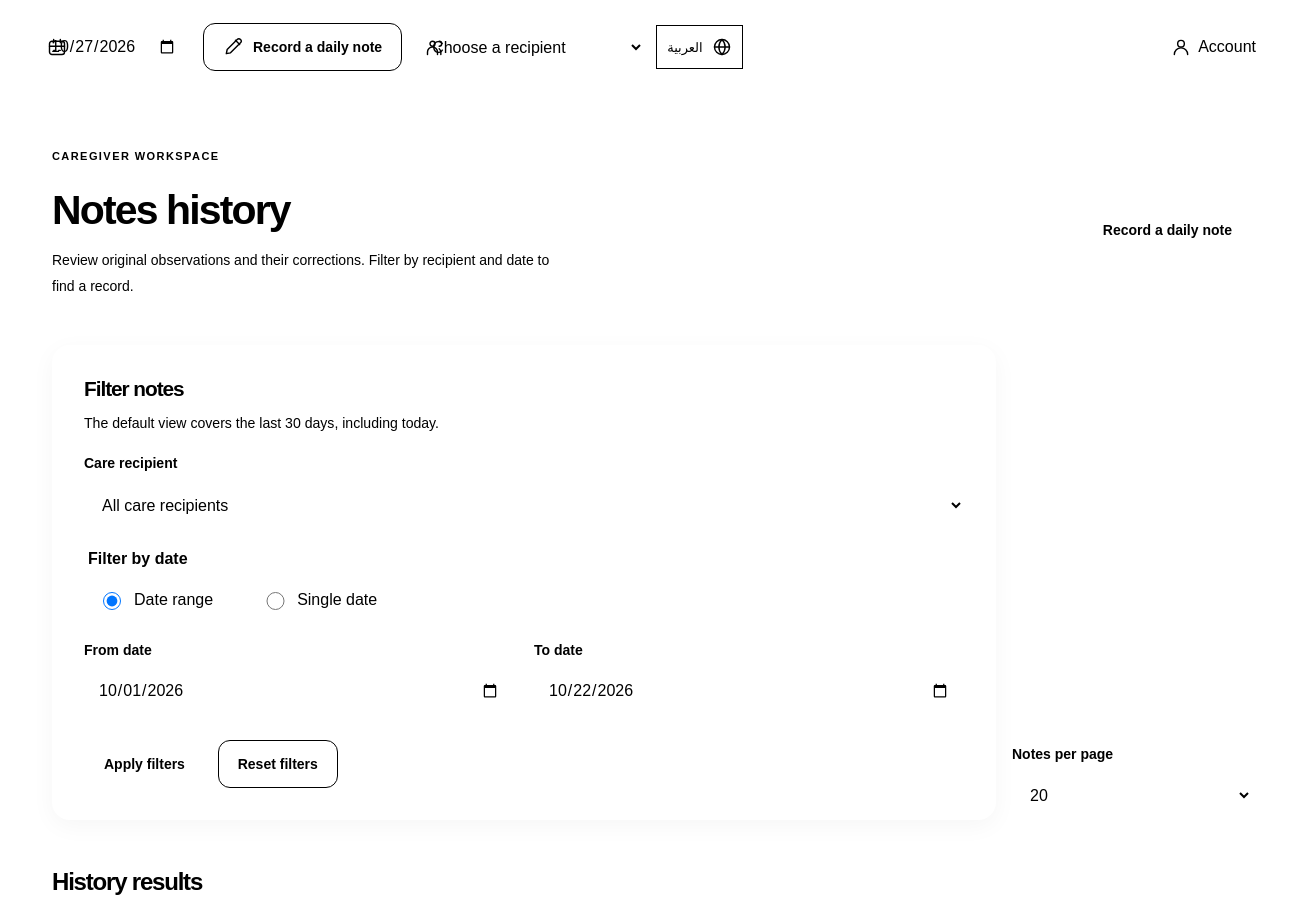
Scenario: history screen, filters and immutable records › applies recipient/date filters together only on submission, including inactive recipients
(page scrolled)
Select "ليلى Smith (Inactive)" in the dropdown labelled "Care recipient" at point(524, 505), box [84, 480, 964, 530]
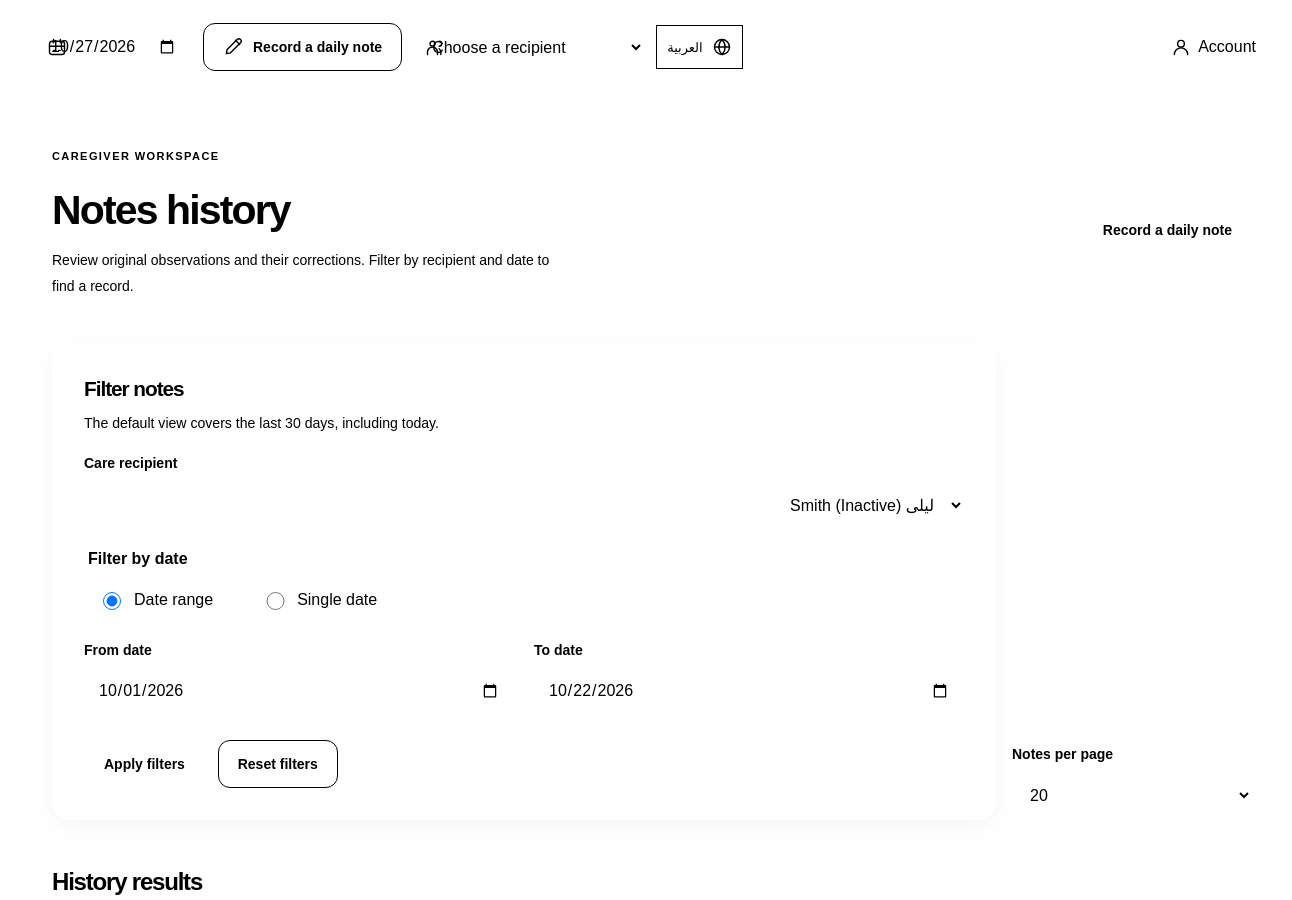
Type "2026-10-10" into the date field labelled "From date" at point(299, 691), box [84, 666, 514, 716]
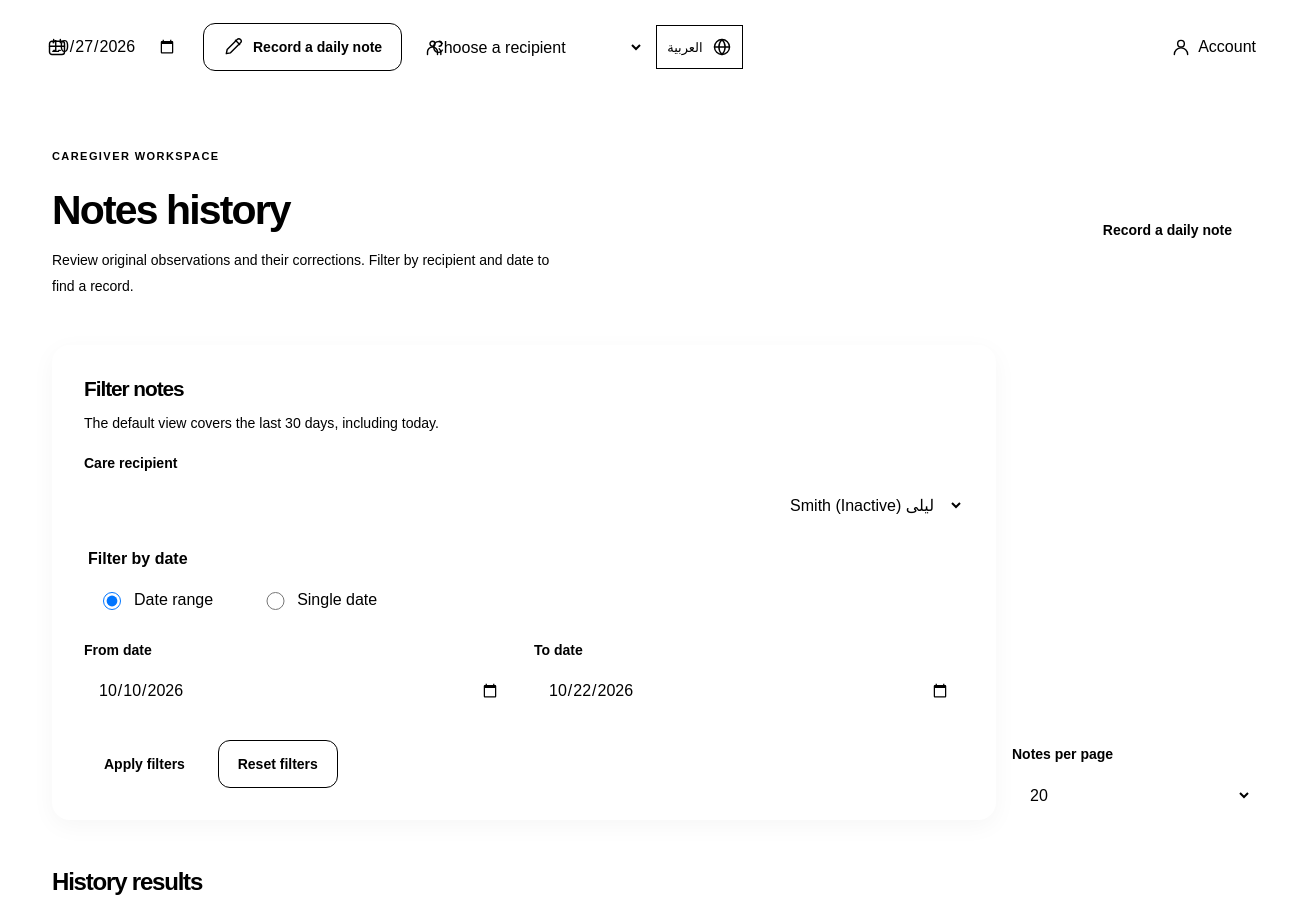
Type "2026-10-20" into the date field labelled "To date" at point(749, 691), box [534, 666, 964, 716]
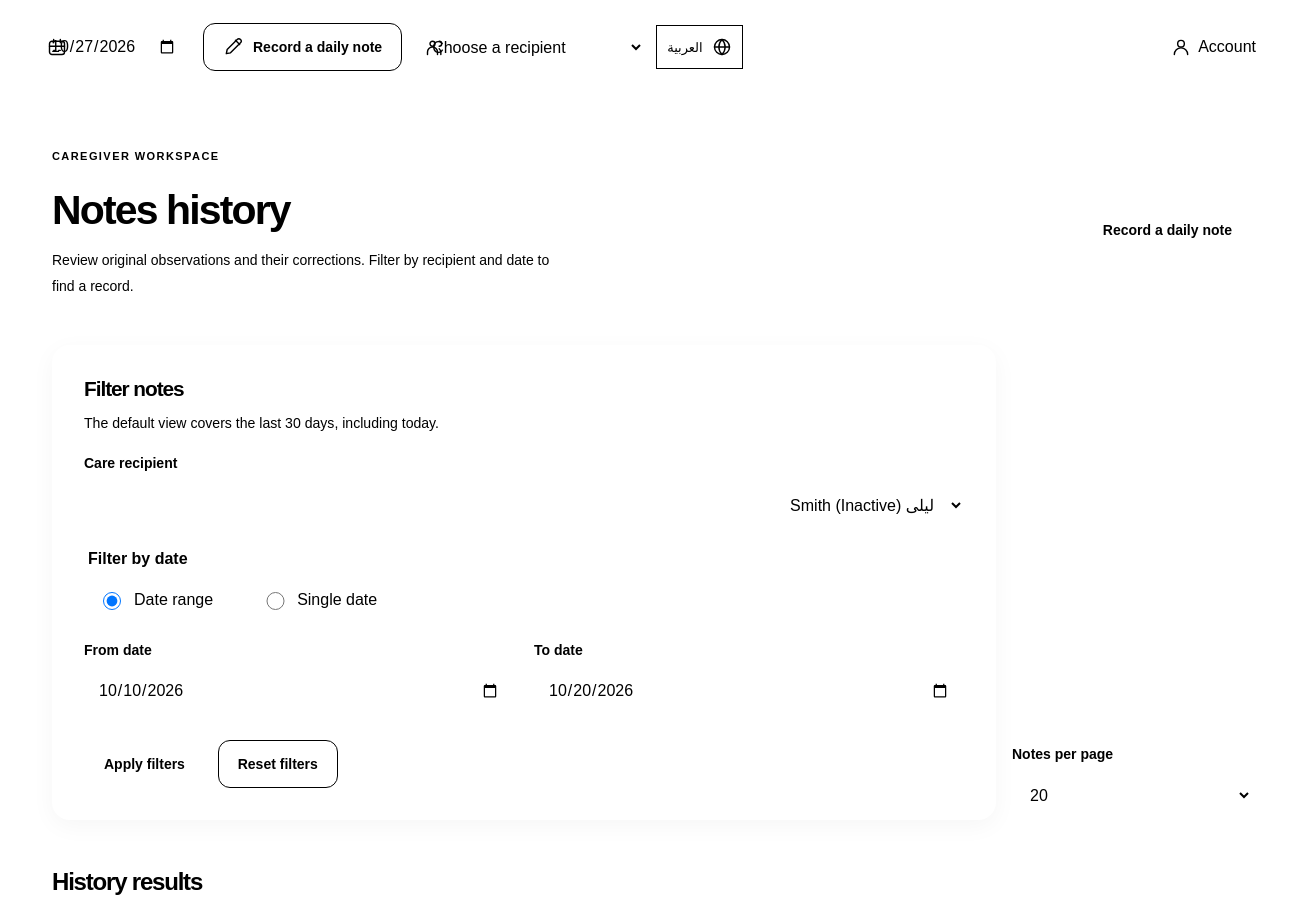
Click the button "Apply filters" at point(144, 764), box [84, 740, 205, 788]
(page scrolled)
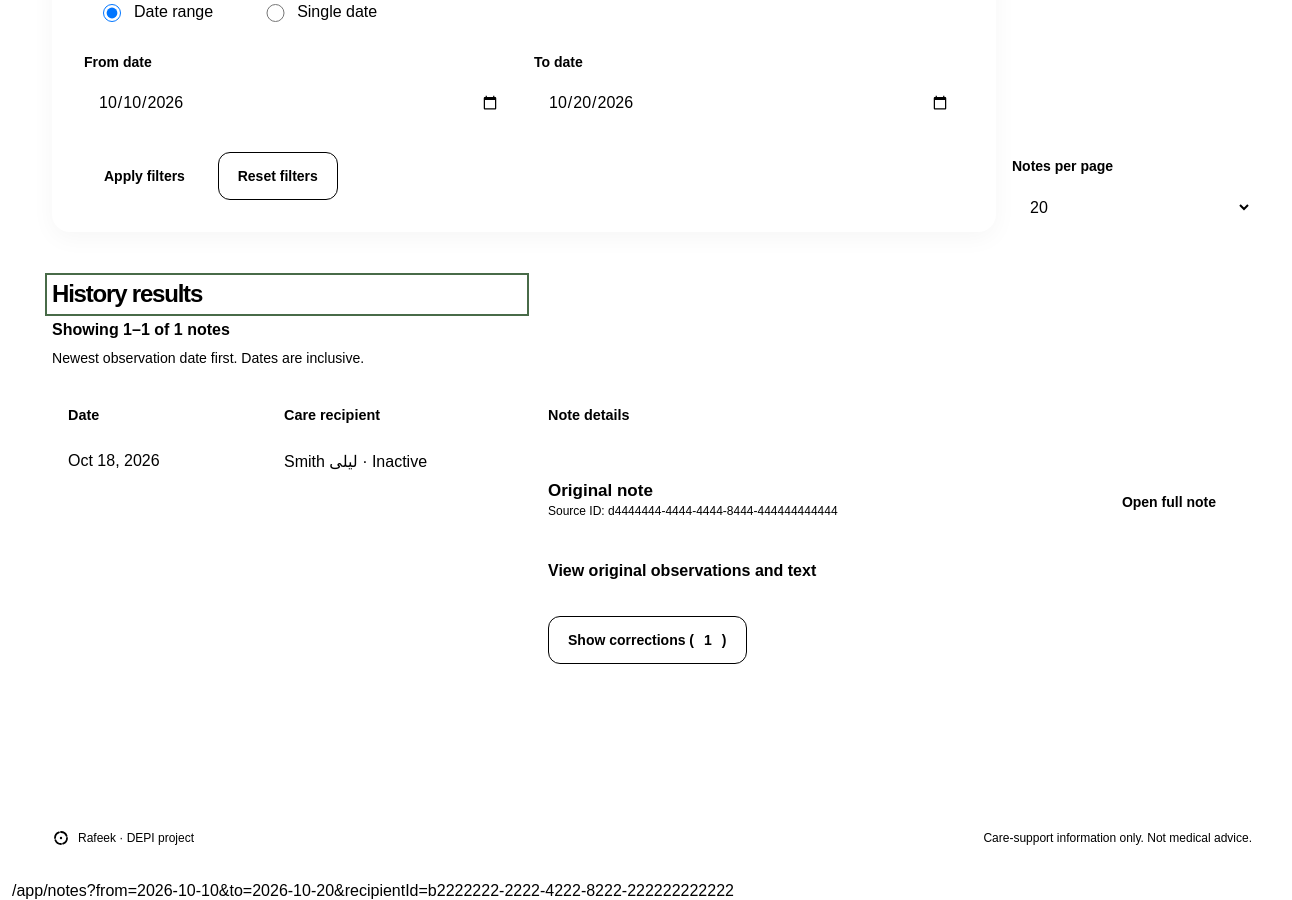
Expected: the element named "ليلى Smith" is shown, [548, 452, 1236, 690]
